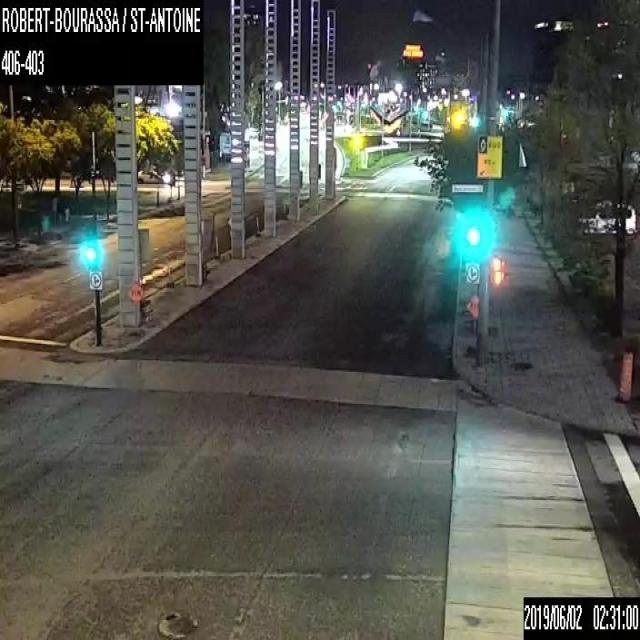construction: (127, 278, 145, 336), (614, 350, 633, 402), (465, 294, 479, 356)
vehicle: (578, 199, 635, 235), (136, 167, 170, 184)
